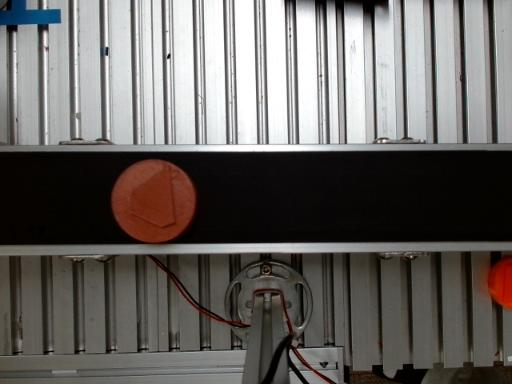Brown_Waper: (111, 160, 196, 242)
Not_Square: (131, 164, 175, 227)
